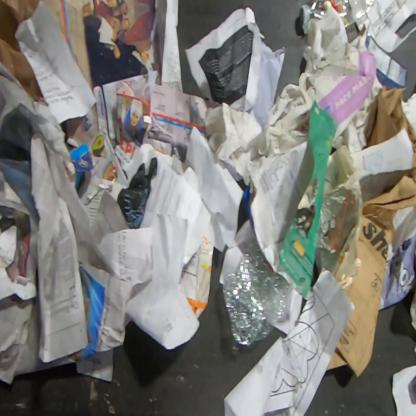cardboard: (356, 23, 407, 92), (178, 236, 214, 320)
rigid_plastic: (222, 237, 296, 346), (316, 186, 357, 255), (301, 0, 377, 29)
soft_plastic: (0, 0, 49, 106)
